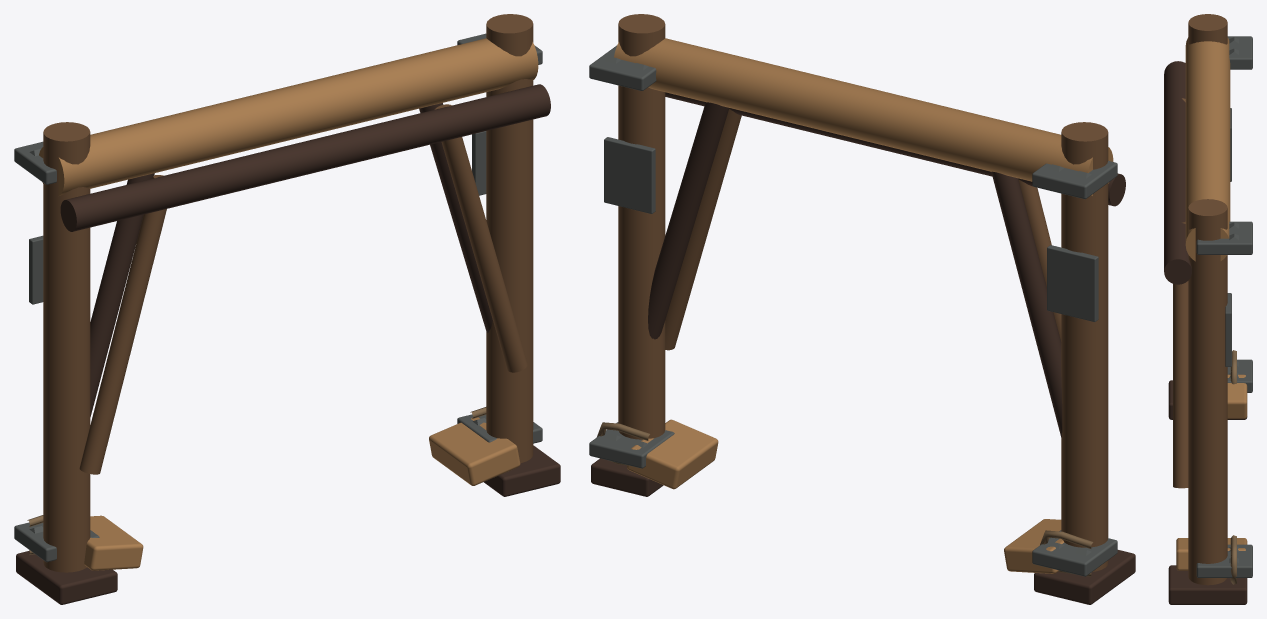
Rendered from extra_timber_shoring.glb.
The picture shows the model from 3 angles, left to right: view 1: azimuth 30°, elevation 25°; view 2: azimuth 150°, elevation 25°; view 3: azimuth 270°, elevation 25°; orthographic projection. The views are drawn at different scales.
Visible parts, largest first — view 1: wood, metal; view 2: wood, metal, cloth; view 3: wood, metal, cloth.
Boxes of the visible parts, <box> form: wood: <box>16,14,560,604</box>; metal: <box>14,33,542,562</box>; wood: <box>591,14,1135,604</box>; metal: <box>589,45,1117,576</box>; cloth: <box>597,422,1093,576</box>; wood: <box>1164,14,1247,604</box>; metal: <box>1196,36,1252,577</box>; cloth: <box>1230,350,1236,584</box>.
Bounding box in the file's own units: 2.8 × 2.4 × 0.5.
